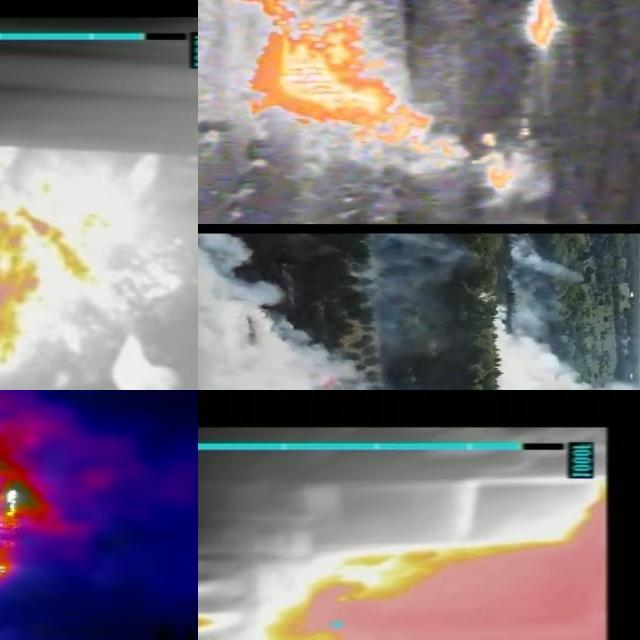fire: (288, 494, 610, 640), (243, 14, 460, 168), (1, 188, 103, 384), (1, 391, 53, 624), (507, 1, 567, 48), (479, 130, 521, 197)
